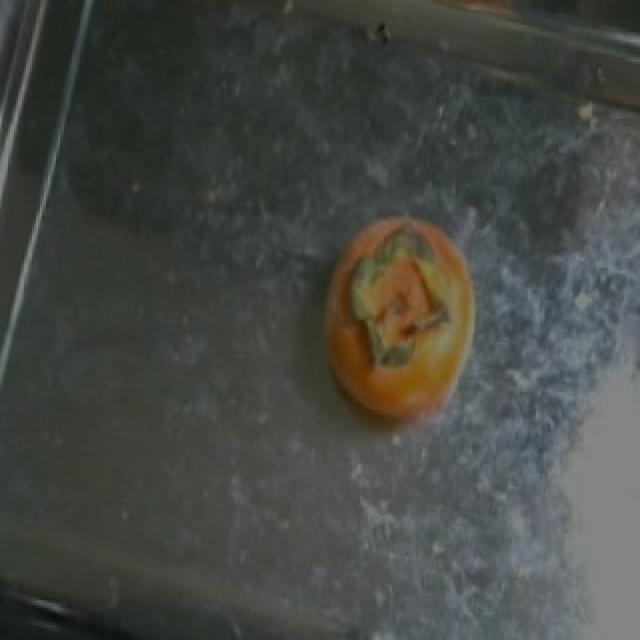Fruit: (302, 206, 500, 459)
